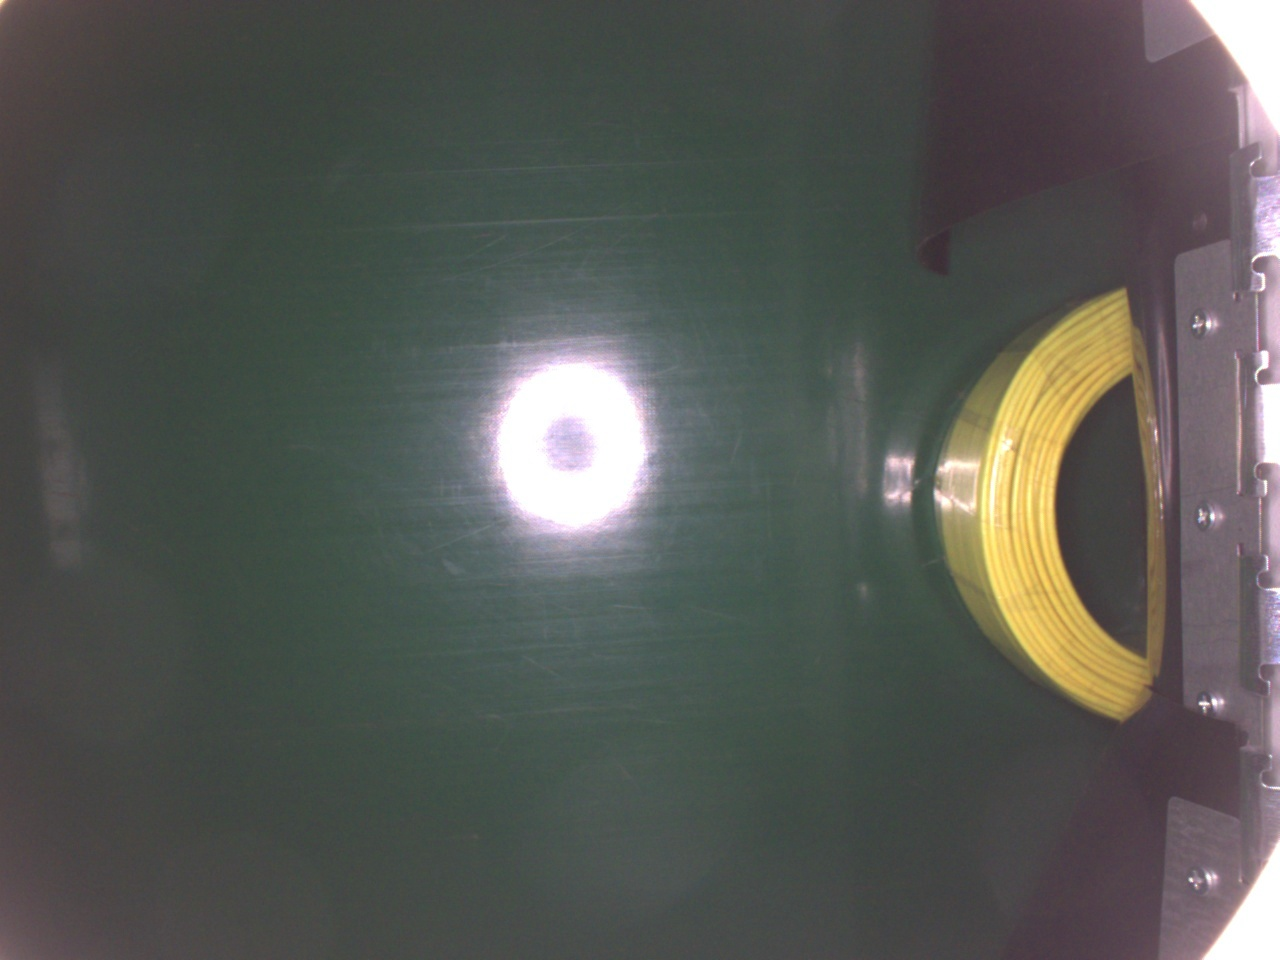yellow: (931, 285, 1164, 723)
